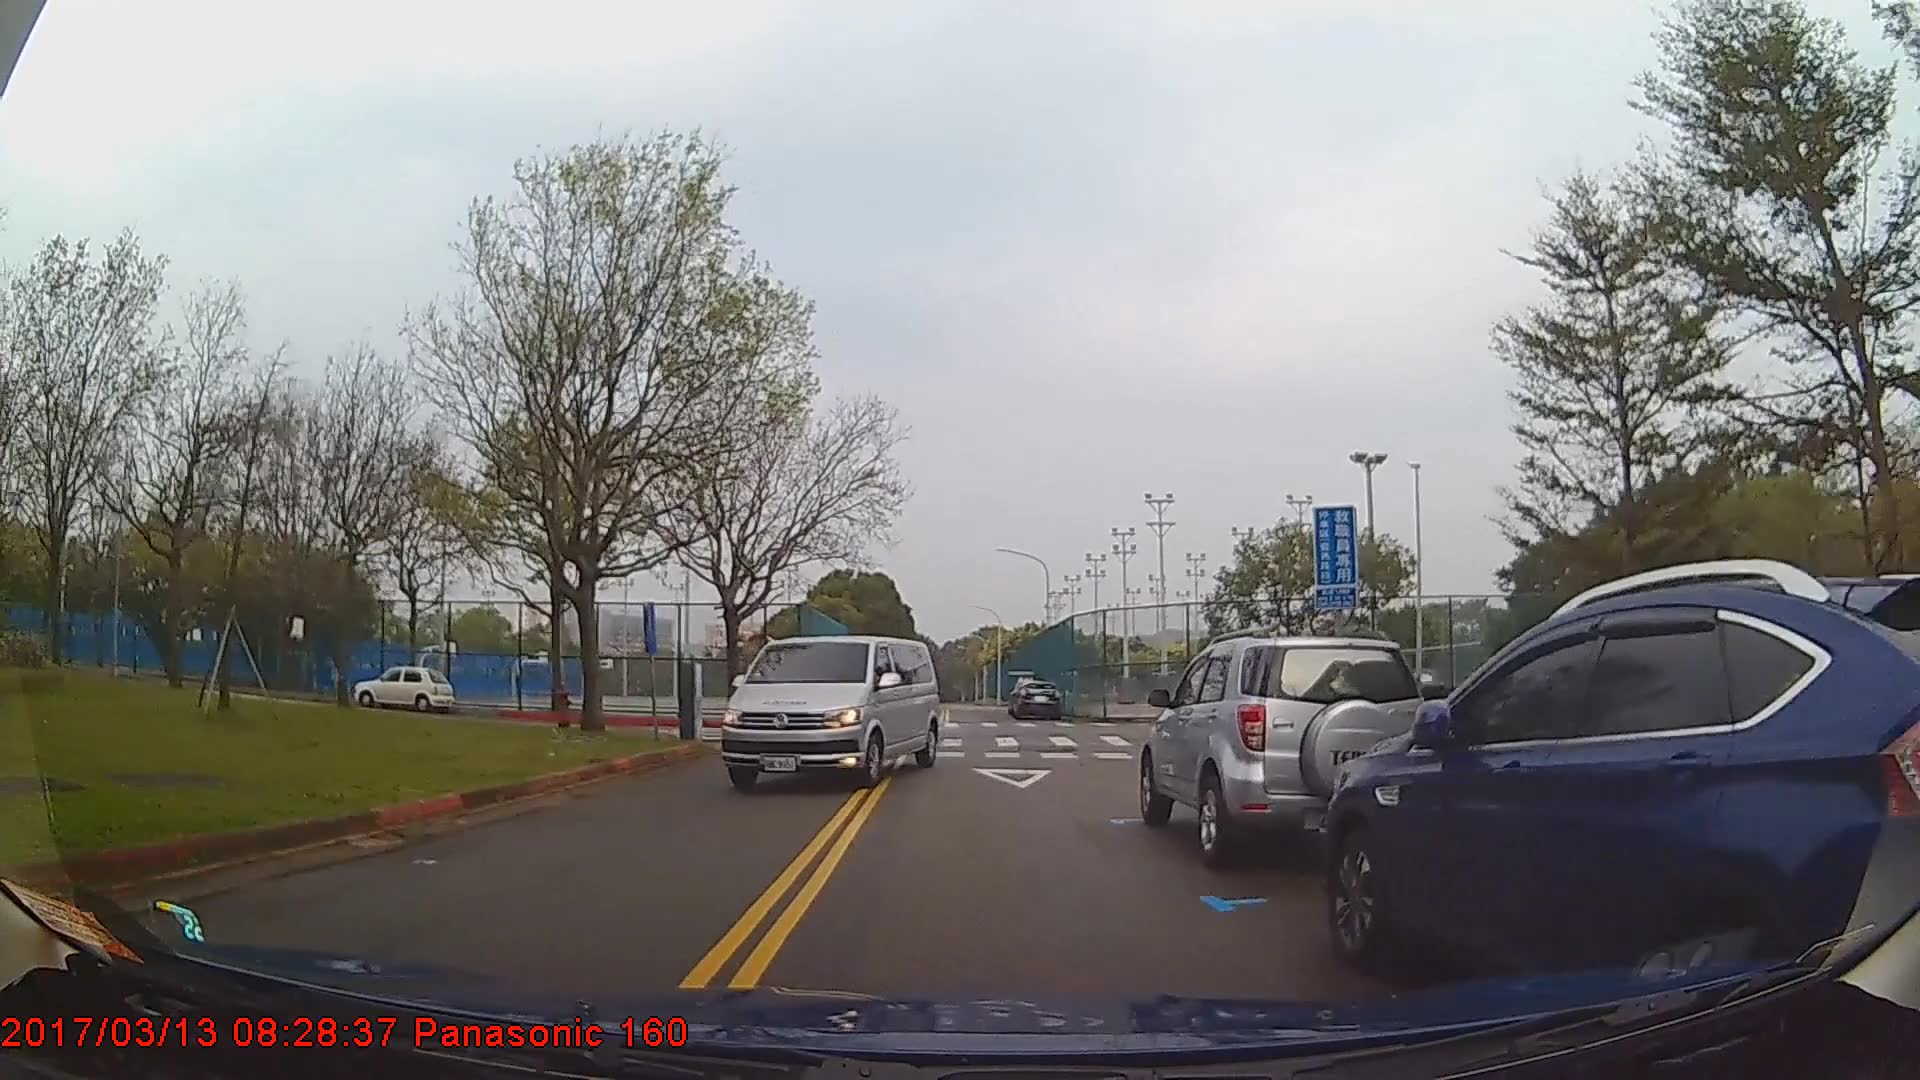vehicle: (1323, 571, 1920, 996), (1138, 633, 1435, 872), (716, 634, 938, 794), (353, 663, 455, 711), (1011, 678, 1062, 721)
